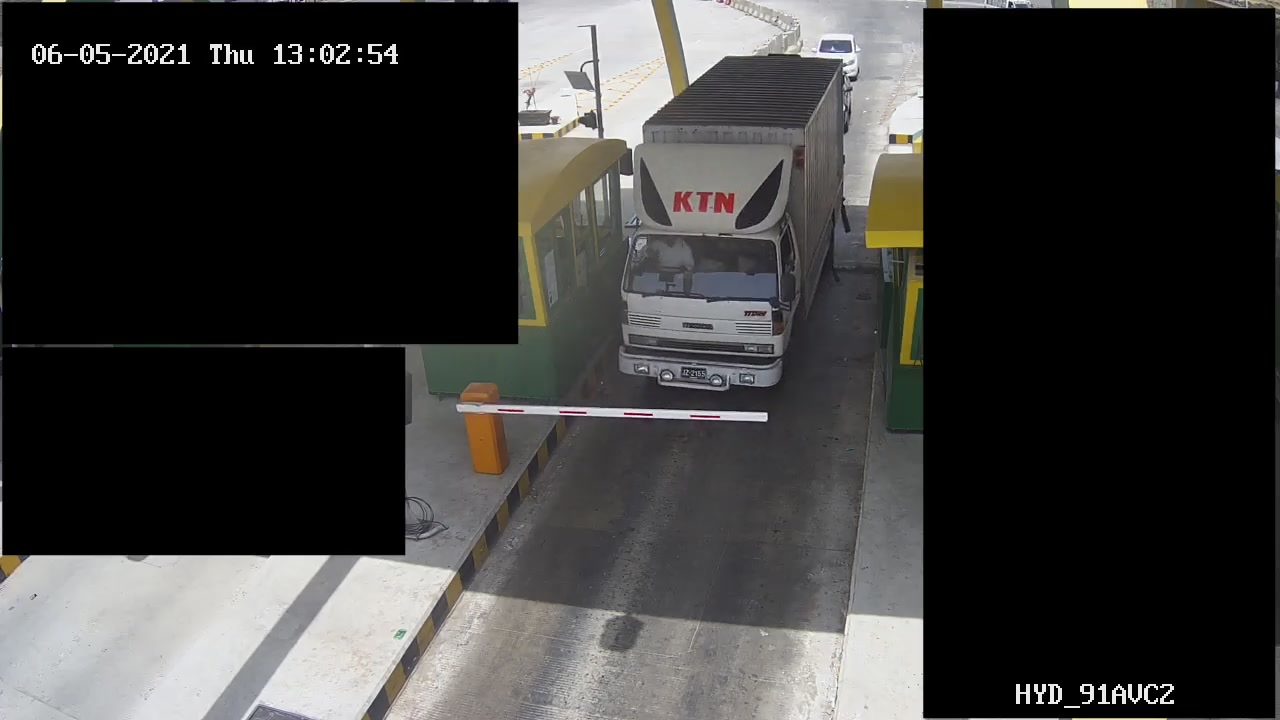F5: (610, 49, 850, 400)
